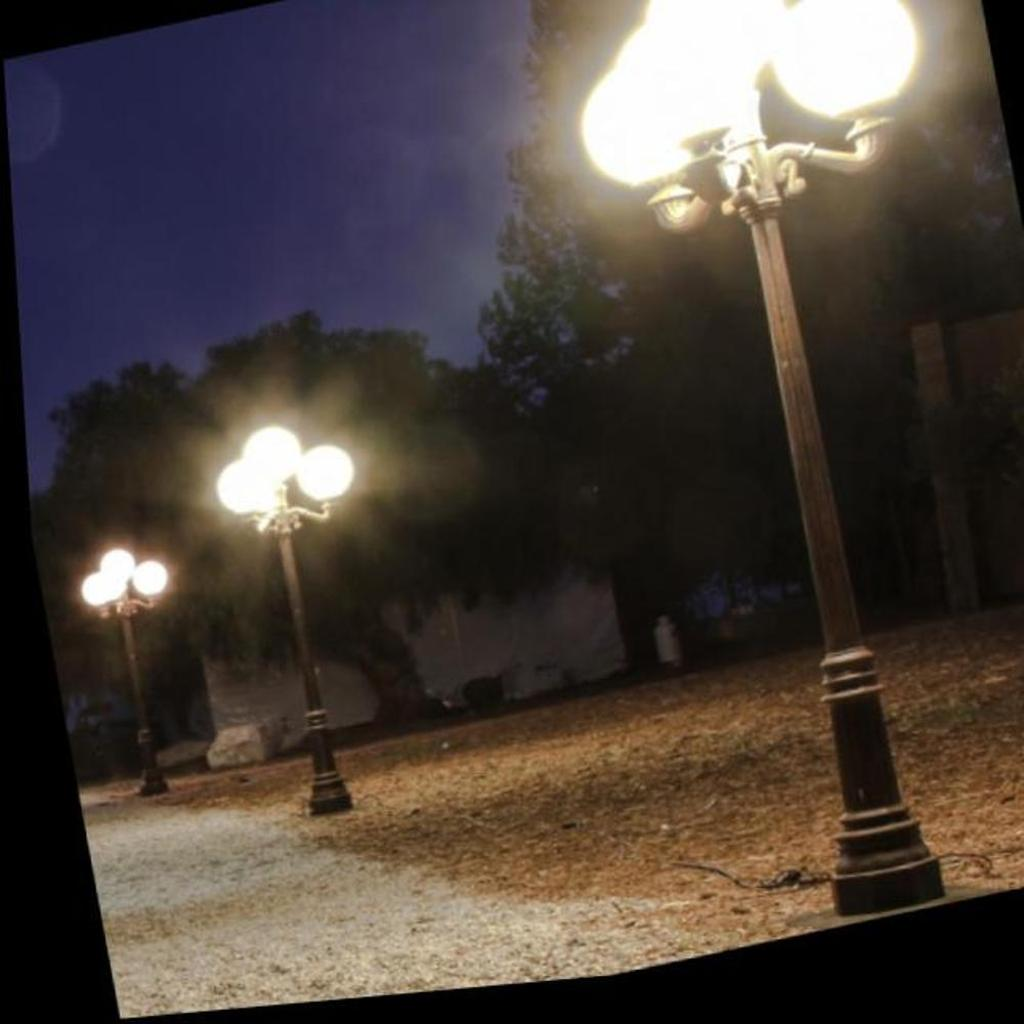shelf: (550, 0, 1024, 962), (171, 384, 413, 859), (50, 526, 215, 815)
